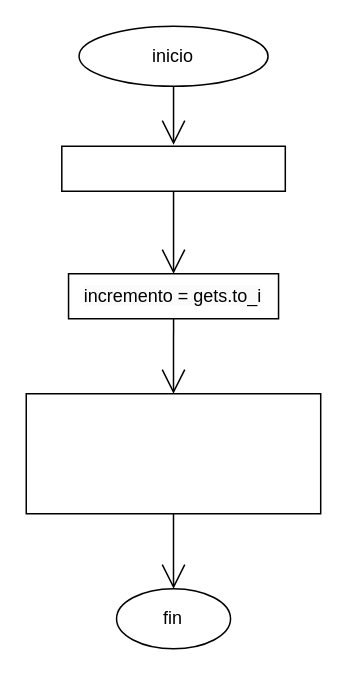
The diagram is 348 pixels wide and 675 high, and some of its shapes have lost their labels. Each missing label, with the box of its shape:
calcular_incremento = salario_actual + (salario_actual * incremento) / 100: (25, 392, 321, 514)
salario_actual = gets.to_i: (60, 145, 285, 191)
